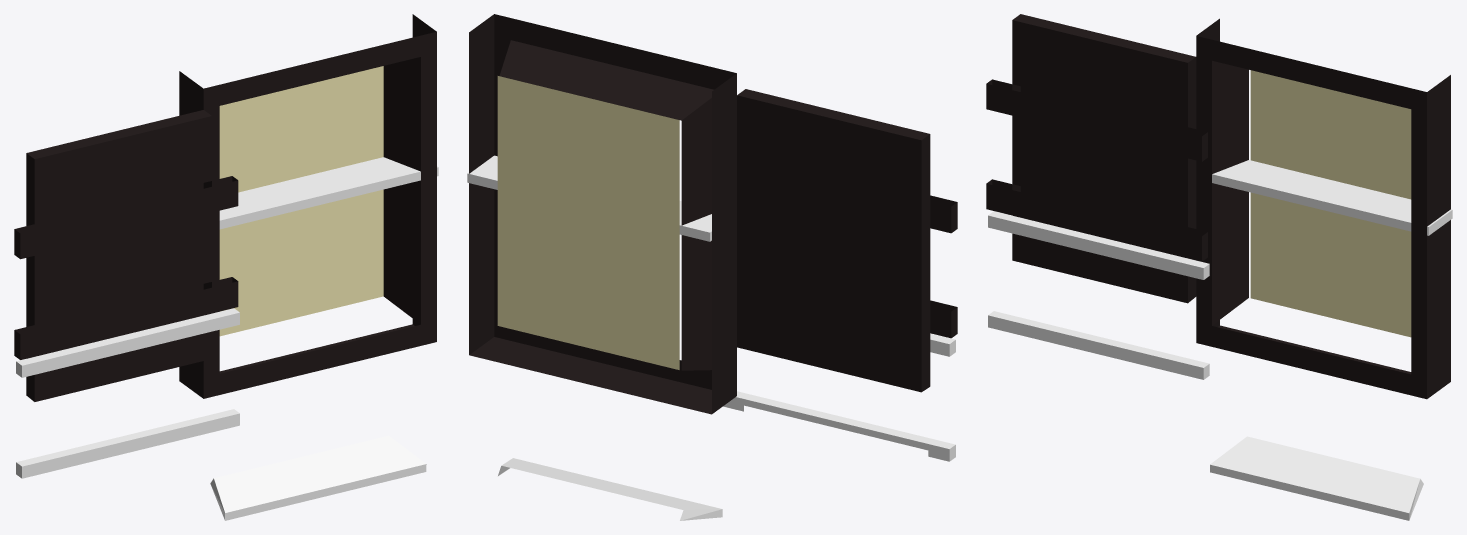
Rendered from window2.FBX.
3 renders of one model, left to right at view 1: azimuth 30°, elevation 25°; view 2: azimuth 150°, elevation 25°; view 3: azimuth 330°, elevation 25°, orthographic. The views are drawn at different scales.
Parts seen in each view (by area): view 1: windowB_000, window_light, snow014; view 2: windowB_000, window_light, snow014; view 3: windowB_000, window_light, snow014.
Boxes of the visible parts, <box> form: windowB_000: <box>14,14,436,401</box>; window_light: <box>219,66,383,336</box>; snow014: <box>16,157,438,520</box>; windowB_000: <box>469,14,957,414</box>; window_light: <box>497,76,679,369</box>; snow014: <box>467,155,955,520</box>; windowB_000: <box>986,14,1450,399</box>; window_light: <box>1250,70,1411,337</box>; snow014: <box>988,160,1452,520</box>.
Size of the model in its own units: 149 by 143 by 23.03.
